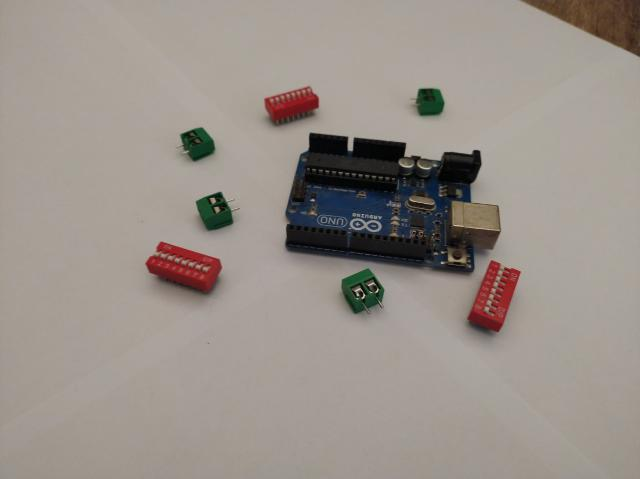arduino: (284, 133, 502, 273)
dip_switch: (146, 240, 222, 292), (468, 260, 520, 331), (265, 86, 319, 126)
terminal_block: (342, 268, 384, 315), (197, 192, 240, 230), (175, 129, 215, 161), (411, 88, 445, 116)
